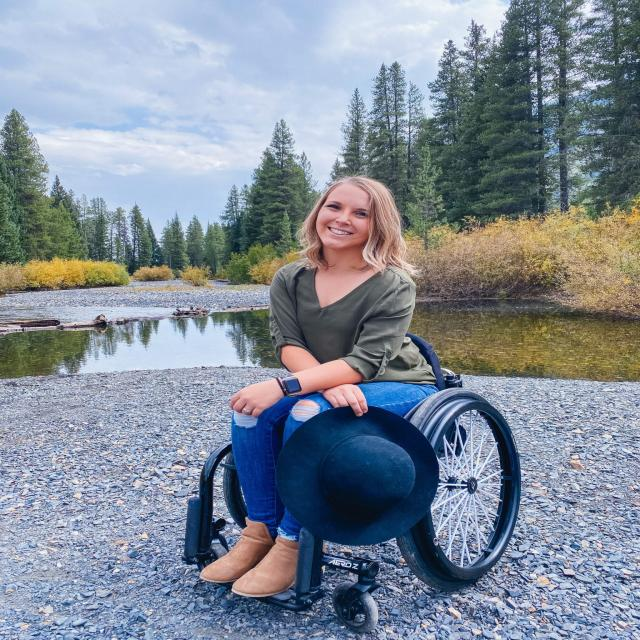wheelchairs: (139, 344, 544, 634)
